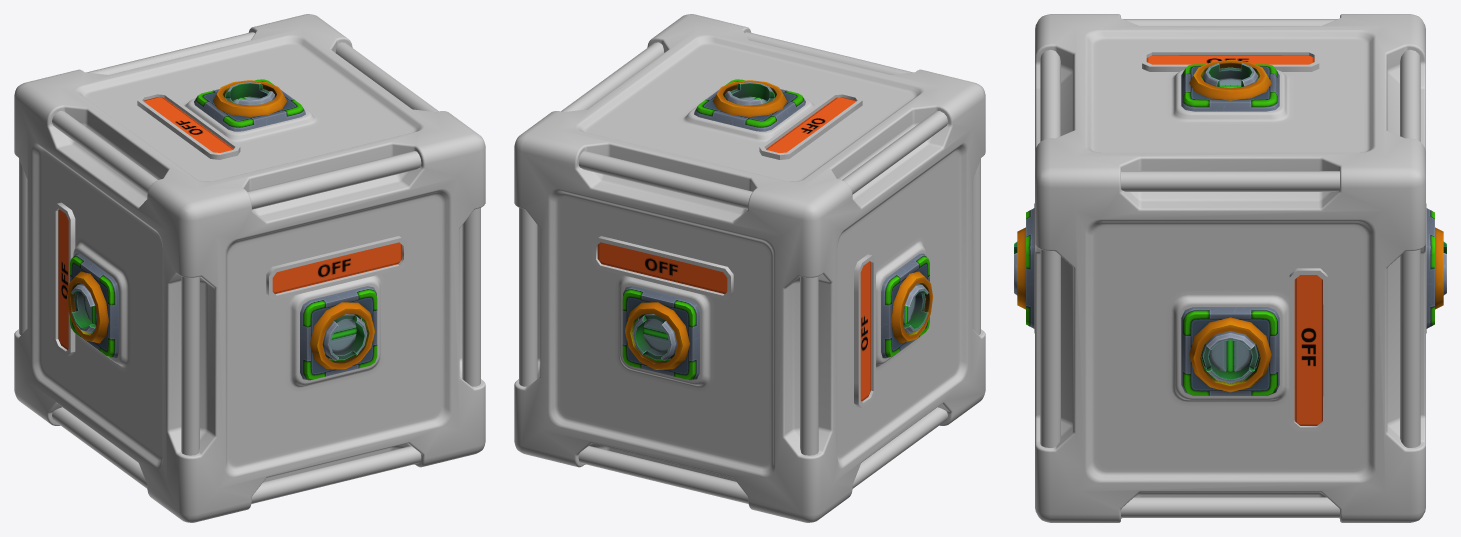
File: fant_recycler.obj
3 views of the same model, side by side, from view 1: azimuth 30°, elevation 25°; view 2: azimuth 150°, elevation 25°; view 3: azimuth 270°, elevation 25° (orthographic). The views are drawn at different scales.
Visible parts, largest first — view 1: fant_recycler_Cube.002; view 2: fant_recycler_Cube.002; view 3: fant_recycler_Cube.002.
Boxes of the visible parts, box(x1,y1,x2,y2) form: fant_recycler_Cube.002: box(14, 14, 485, 522); fant_recycler_Cube.002: box(514, 14, 985, 522); fant_recycler_Cube.002: box(1014, 14, 1446, 522).
Size of the model in its own units: 5.54 by 5.54 by 5.54.
